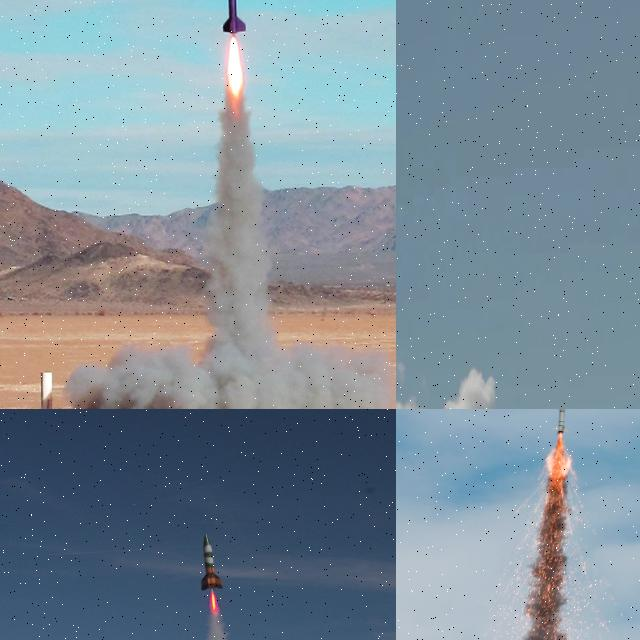Rocket: (201, 533, 224, 591), (221, 0, 246, 35), (552, 409, 570, 435)
